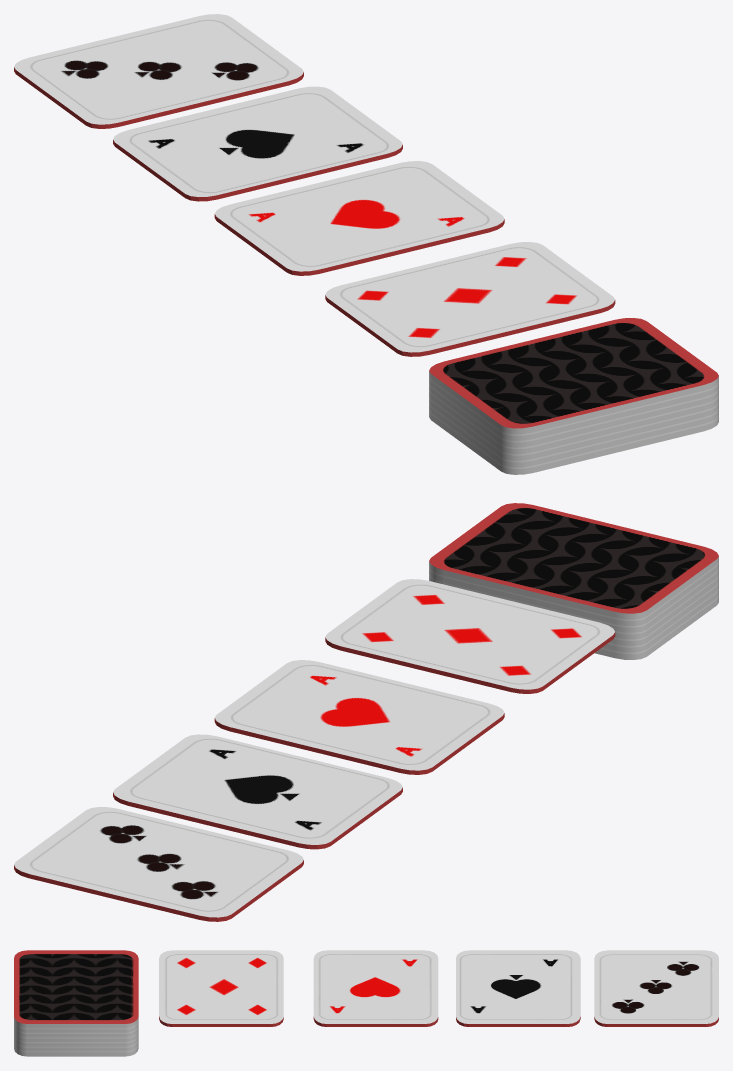
The model's file is cards-pack.glb.
3 renders of one model, top to bottom at view 1: azimuth 30°, elevation 25°; view 2: azimuth 150°, elevation 25°; view 3: azimuth 270°, elevation 25°, orthographic. The views are drawn at different scales.
Visible parts, largest first — view 1: pack, card.003, card.001, card.002, card; view 2: pack, card.001, card.003, card.002, card; view 3: pack, card.002, card, card.001, card.003.
Part boxes in pixels (x1,y1,x2,y2): pack: (429,318,718,474); card.003: (113,86,402,201); card.001: (325,242,615,356); card.002: (214,161,504,275); card: (14,14,303,128); pack: (429,503,718,659); card.001: (325,579,615,693); card.003: (113,734,402,849); card.002: (214,660,504,774); card: (14,807,303,921); pack: (14,950,138,1056); card.002: (313,950,438,1026); card: (594,950,718,1026); card.001: (159,950,283,1026); card.003: (456,950,580,1026).
Bounding box in the file's own units: 0.2409 × 0.0495 × 0.9749.
Materials: 1 (1 with a texture image).
